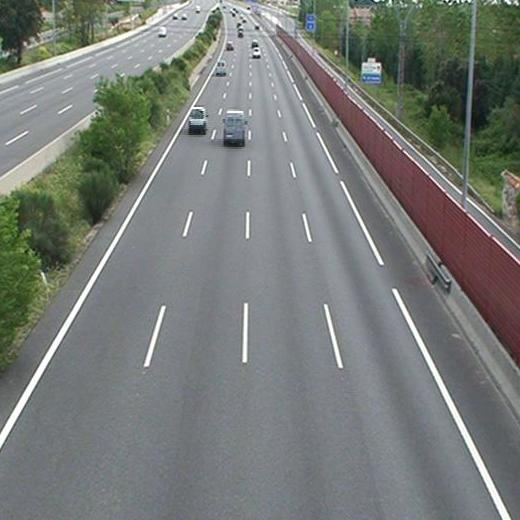car: (253, 47, 262, 57), (226, 41, 234, 50)
van: (224, 111, 246, 141), (189, 108, 206, 130), (216, 61, 227, 74)
